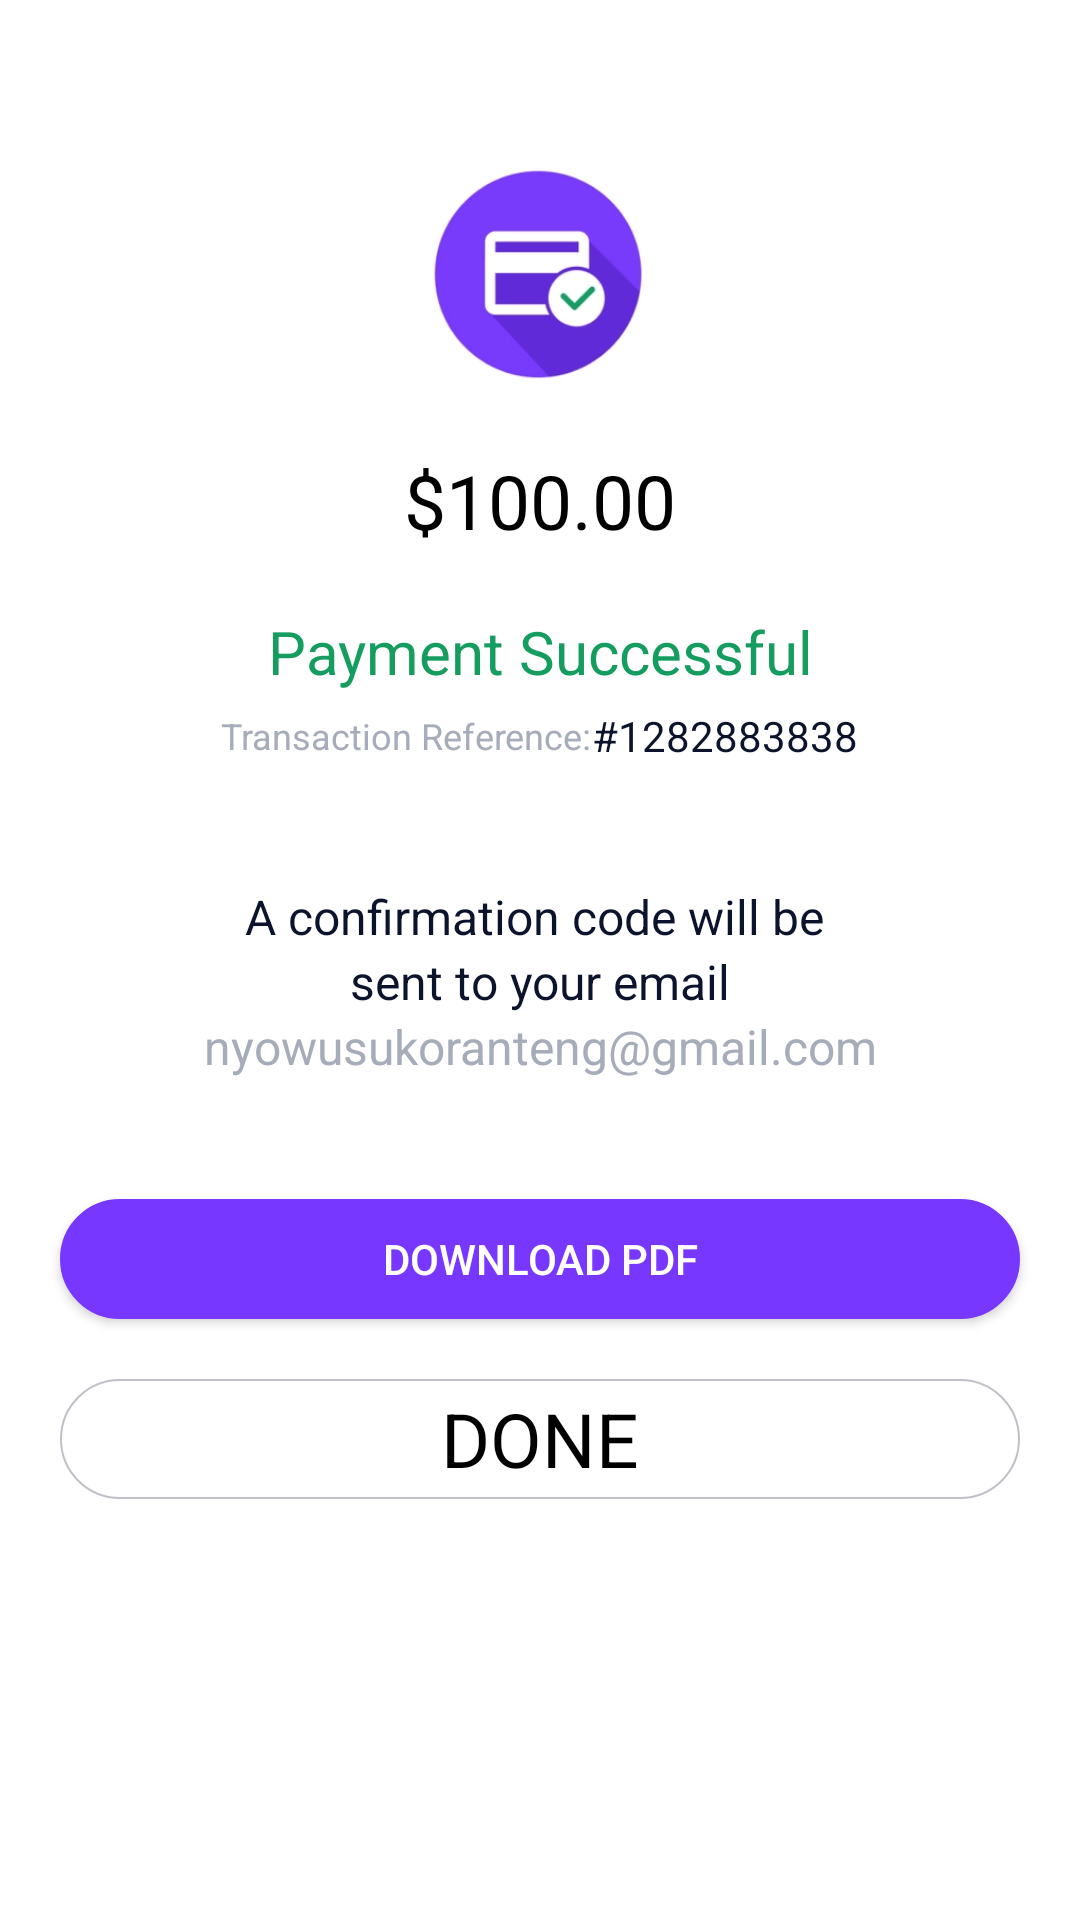

Where to tap for icons on this 1080px×1920px app screen, as (x=x, y=y):
confirm payment: (x=538, y=274)
